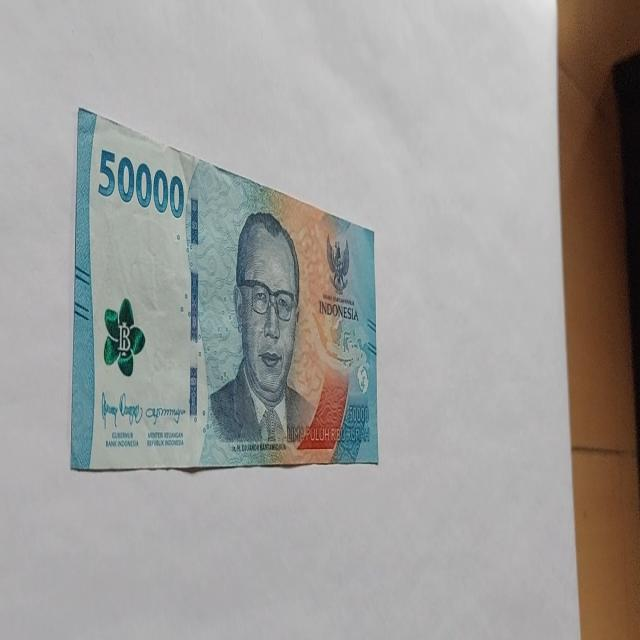lima puluh ribu rupiah: (70, 106, 378, 473), (198, 209, 348, 466)
